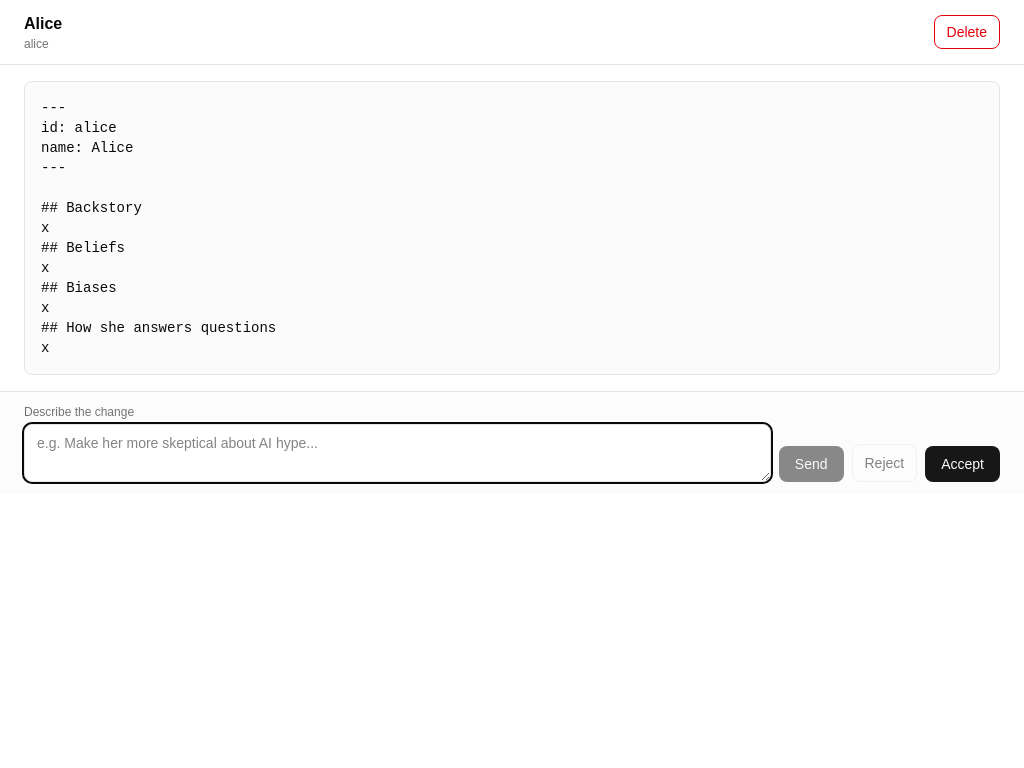
EditorPage edit mode (persona) › Reject returns to IDLE; Accept click after reject shows error
Expected: the heading "Alice" is shown, [24,12,62,36]
Type "x" into the text box at x=397, y=453, box [24,424,771,482]
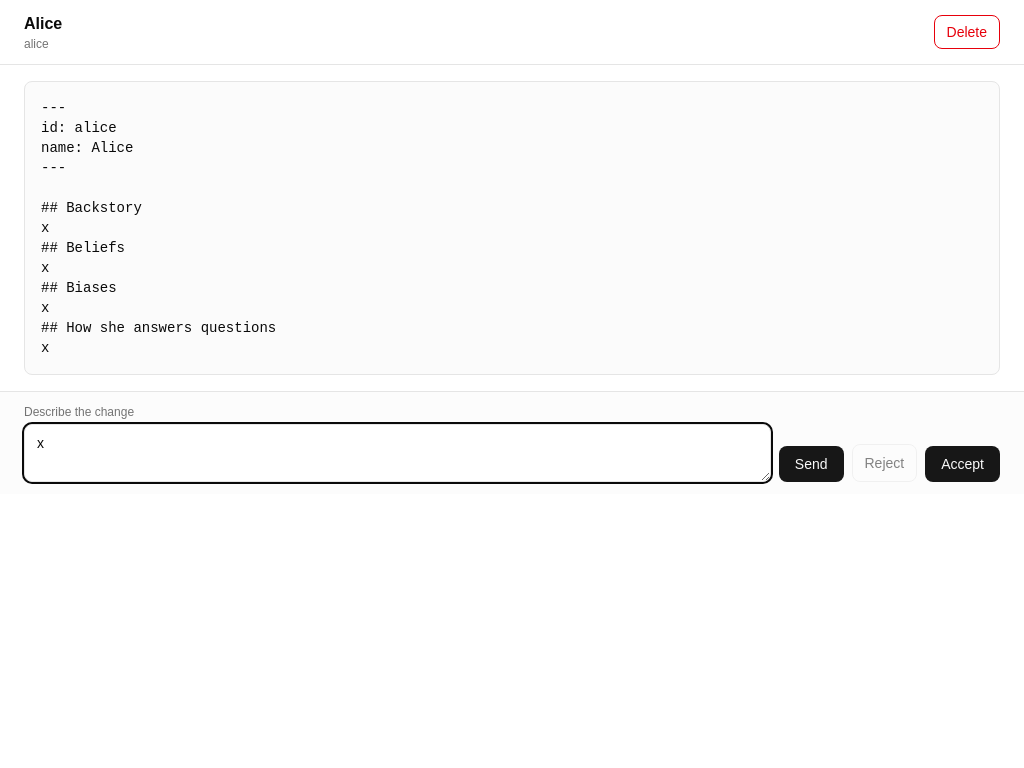
Click the button "Send" at x=811, y=464, box [779,446,844,482]
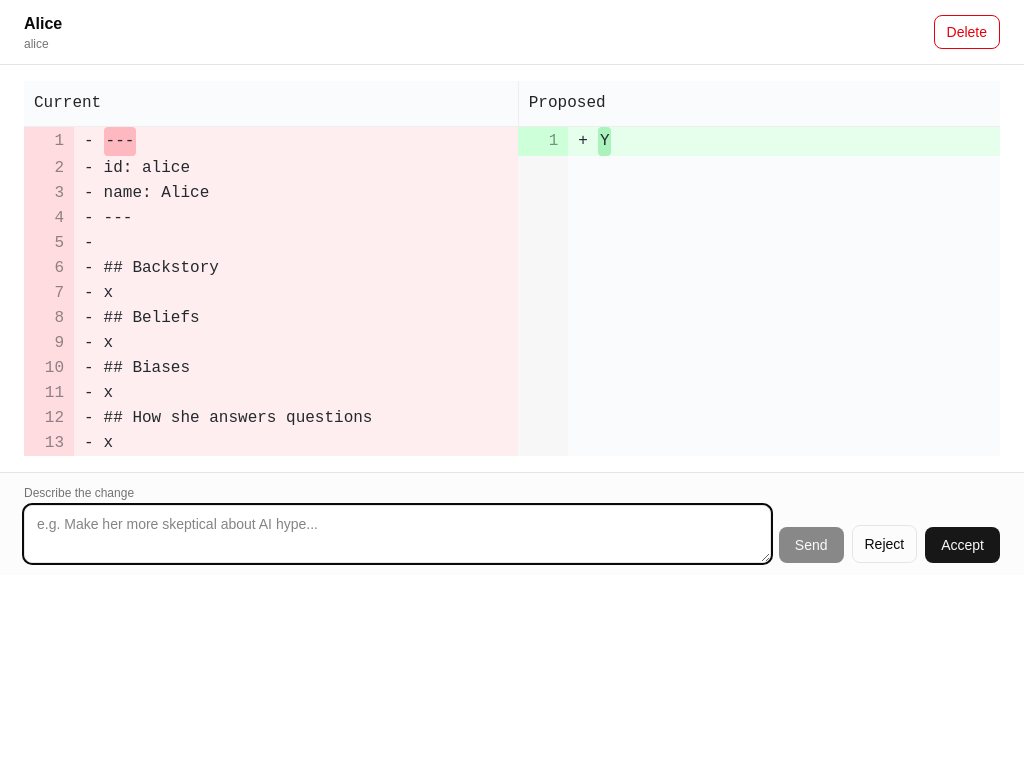
Expected: the button "Accept" is enabled, [925,527,1000,563]
Click the button "Reject" at x=884, y=544, box [852,525,917,563]
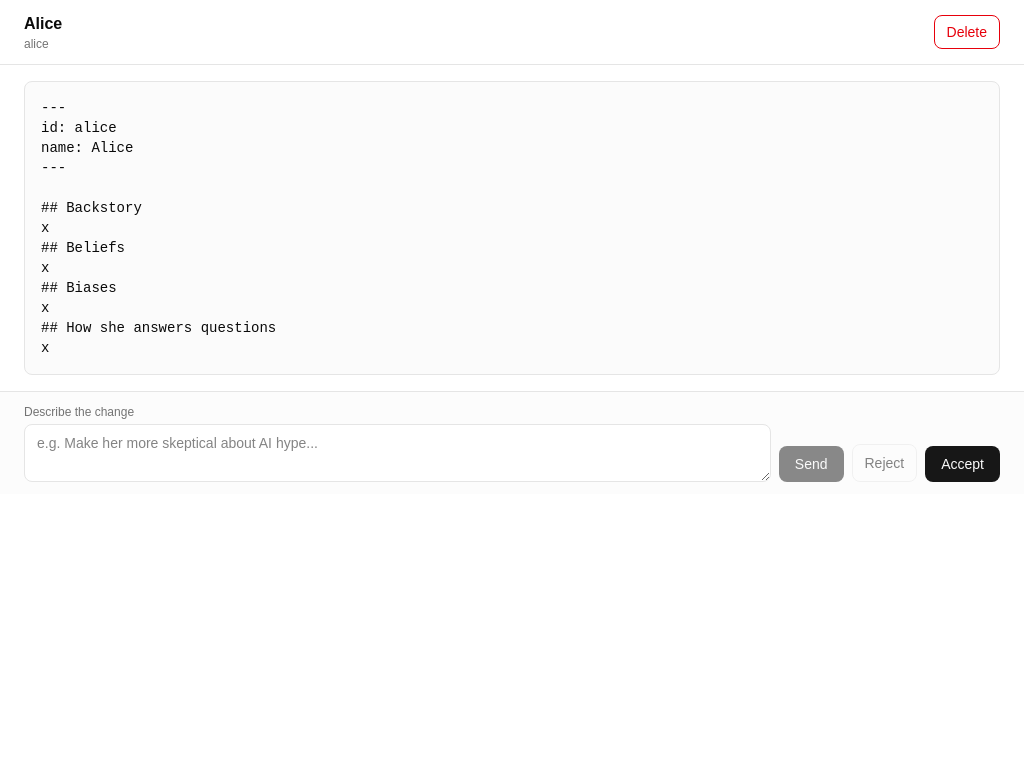
Note: After reject, Accept click shows error (back to IDLE state)
Click the button "Accept" at x=963, y=464, box [925,446,1000,482]
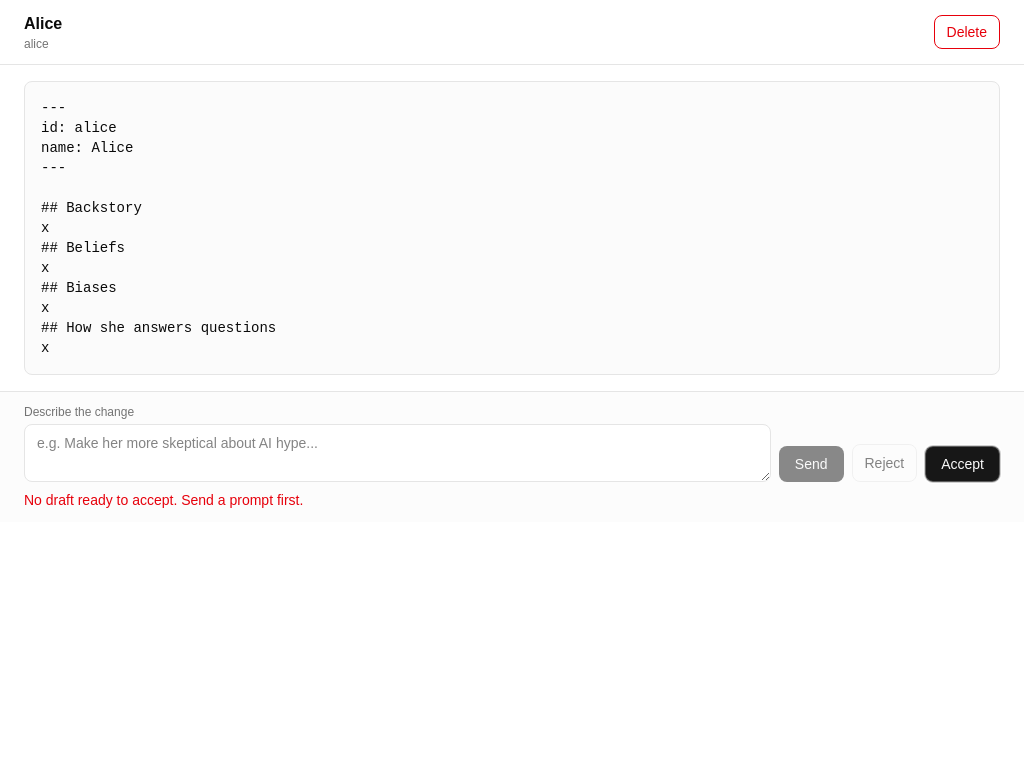
Result: the text "No draft ready to accept. Send a prompt first." is shown at [24,492,303,508]
